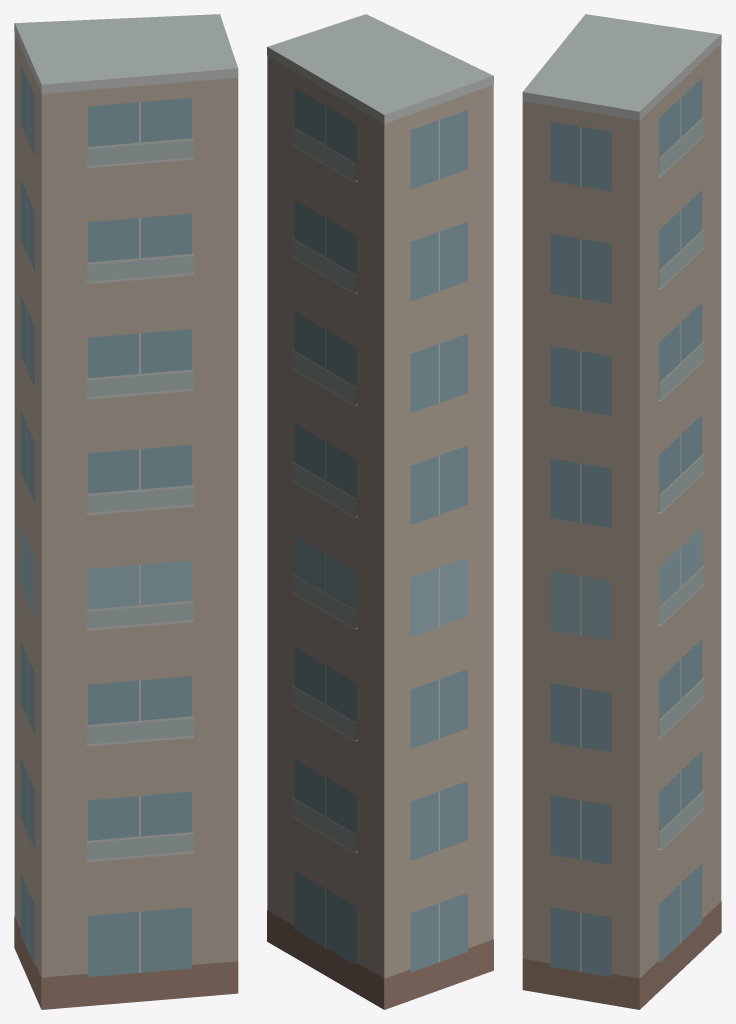
Rendered from survey-upis-32653297.glb.
3 views of the same model, side by side, from view 1: azimuth 30°, elevation 25°; view 2: azimuth 150°, elevation 25°; view 3: azimuth 270°, elevation 25° (orthographic). The views are drawn at different scales.
Parts seen in each view (by area): view 1: survey-upis-32653297.tmp; view 2: survey-upis-32653297.tmp; view 3: survey-upis-32653297.tmp.
Boxes of the visible parts, x1,y1,x2,y2 form: survey-upis-32653297.tmp: [14, 14, 238, 1009]; survey-upis-32653297.tmp: [267, 14, 493, 1009]; survey-upis-32653297.tmp: [522, 14, 721, 1009].
Size of the model in its own units: 5.7 by 24.4 by 4.9.
